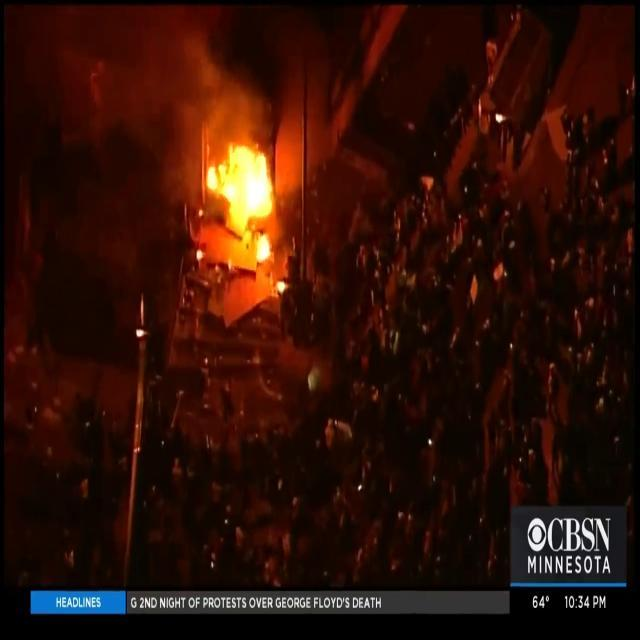Fire: (200, 134, 289, 272)
